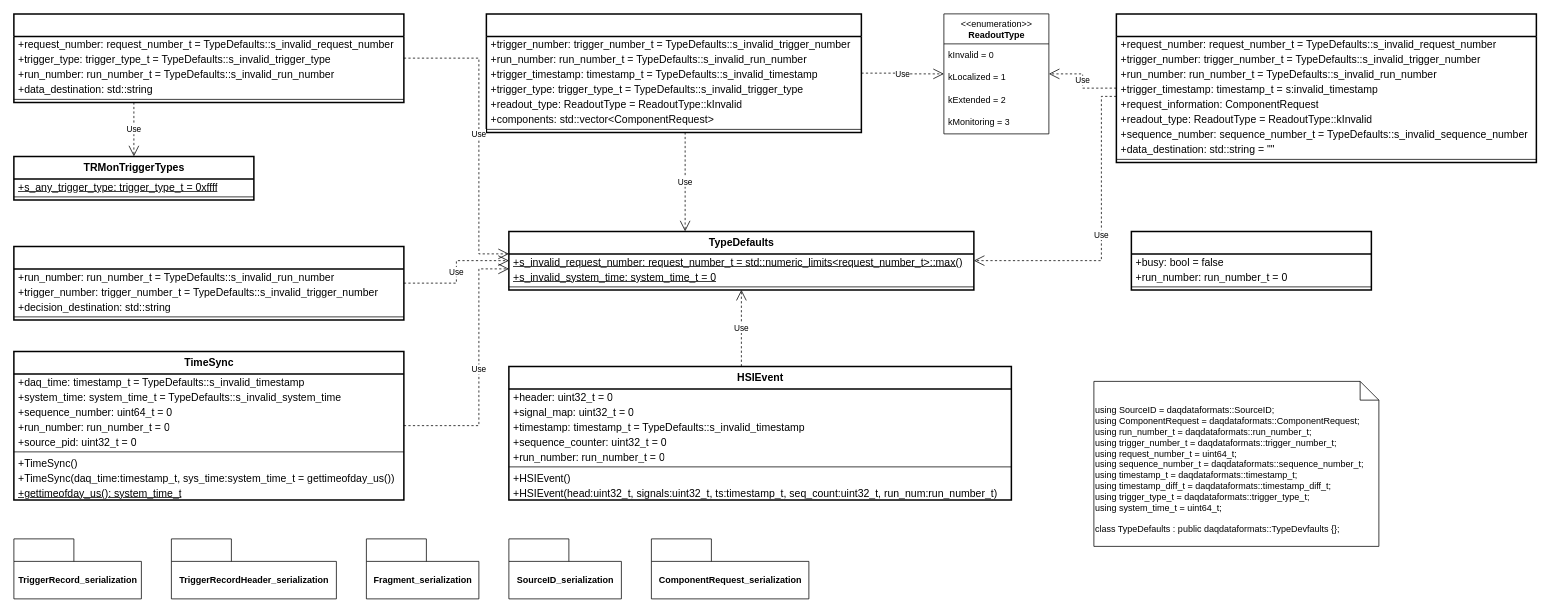
Some shapes in this 1550 by 612 pixel diagram are drawn without their labels. The shapes that lost their labels are listed below. From the top down, each one's box as (x1, y1, x2, y2) in pixels, then its label:
(13, 13, 404, 103): TRMonRequest
(485, 13, 862, 133): TriggerDecision
(1115, 13, 1537, 163): DataRequest
(1130, 230, 1372, 290): TriggerInhibit
(13, 245, 404, 320): TriggerDecisionToken
